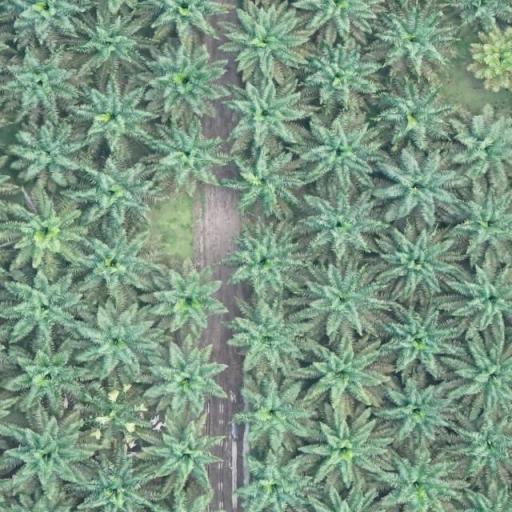Ganoderma: (477, 39, 512, 80)
